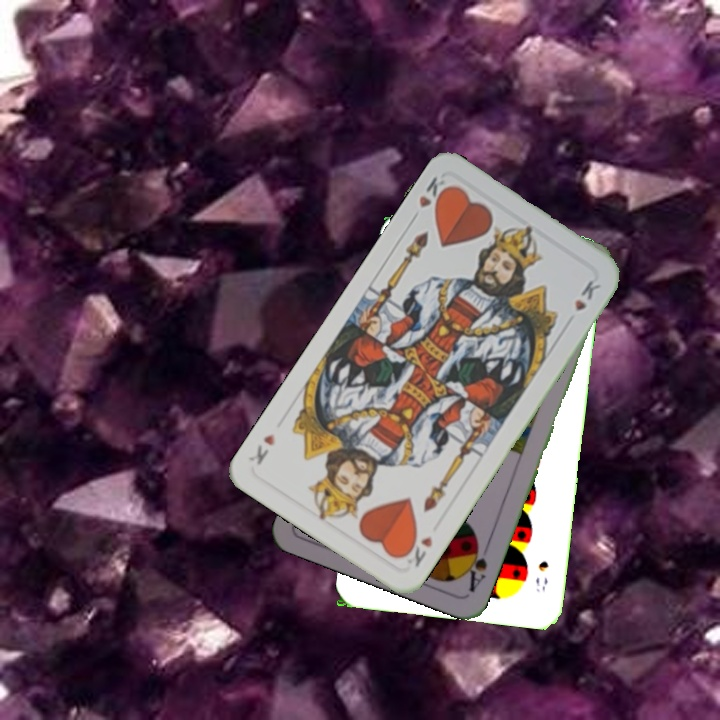HK: (406, 172, 454, 225), (398, 530, 436, 570)
S8: (531, 557, 551, 595)
SA: (459, 534, 493, 595)
